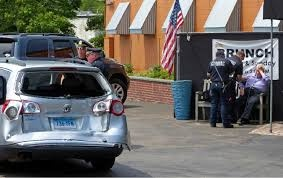Broken-glass: (18, 71, 109, 97)
Dent: (5, 95, 118, 144)
